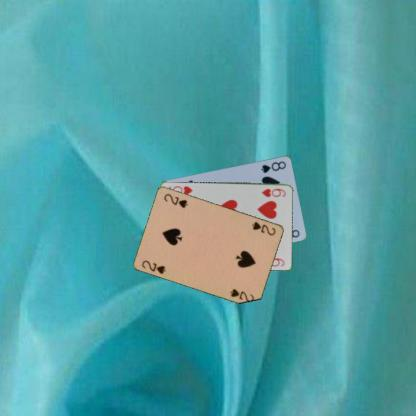2s: (249, 219, 277, 237), (139, 258, 167, 275)
6h: (260, 186, 287, 198)
8s: (259, 158, 287, 174)
